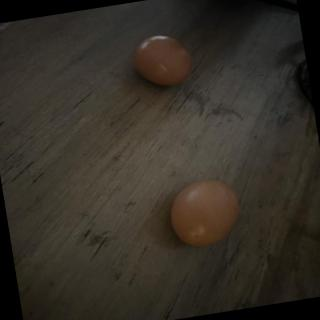Telur: (160, 172, 252, 255), (126, 31, 199, 94)
